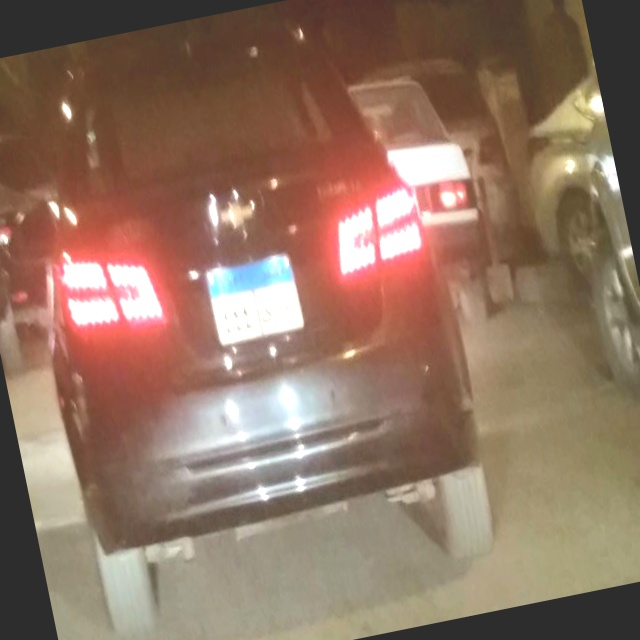License Plate: (201, 250, 308, 351)
